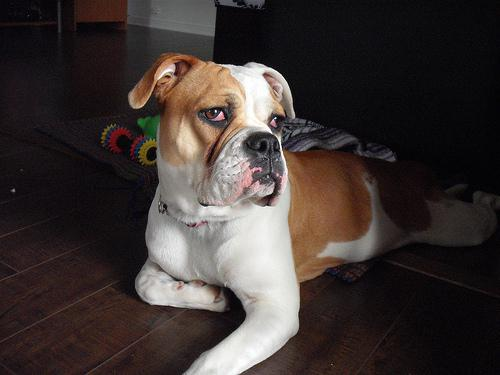dog-american_bulldog: (127, 51, 294, 205)
